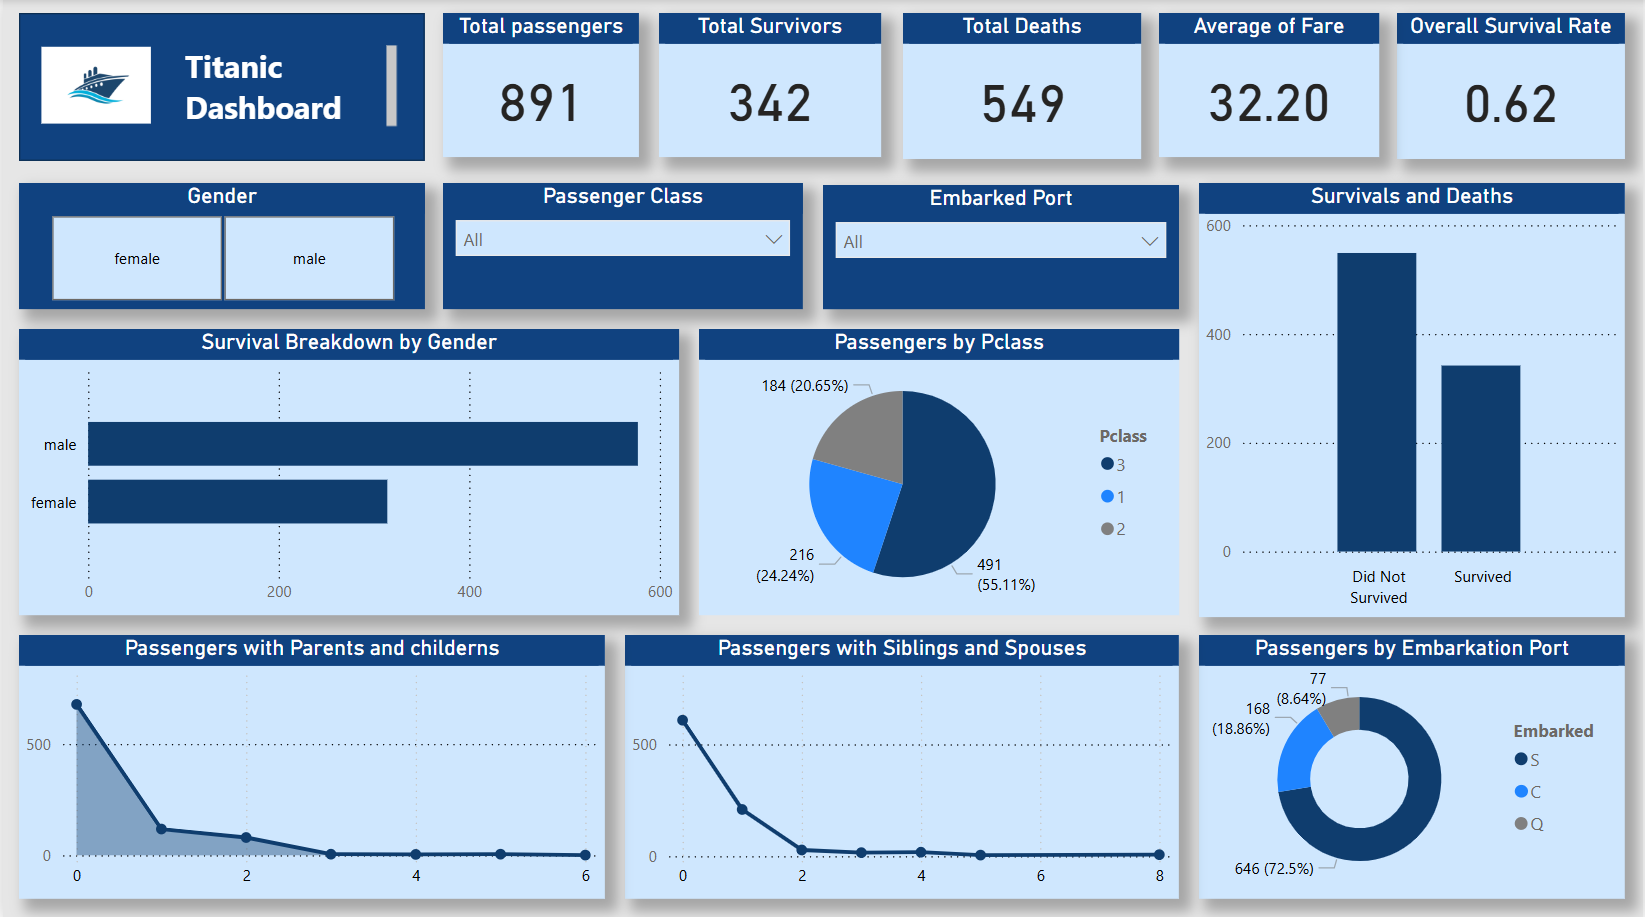

This screenshot's page, from the dashboard's own definition file:
{"tool":"powerbi","page":{"name":"Page 1","canvas":[1280,720],"ordinal":0},"visuals":[{"type":"card","title":"Total passengers","fields":{"Values":["CountNonNull(Cleaned_Titanic.PassengerId)"]},"box":[343.6,10.9,153.1,112.5],"z":0},{"type":"card","title":"Total Survivors","fields":{"Values":["Cleaned_Titanic.Total Survivers"]},"box":[512.3,10.9,173.4,112.5],"z":1000},{"type":"card","title":"Total Deaths","fields":{"Values":["Cleaned_Titanic.Total Deaths"]},"box":[702.8,10.9,185.9,114],"z":2000},{"type":"card","title":"Overall Survival Rate","fields":{"Values":["Cleaned_Titanic.Survival rate"]},"box":[1088.6,10.9,178,114],"z":3000},{"type":"card","title":"Average of Fare","fields":{"Values":["Avg(Cleaned_Titanic.Fare)"]},"box":[902.7,10.9,171.8,112.5],"z":4000},{"type":"slicer","title":"Gender","fields":{"Values":["Cleaned_Titanic.Sex"]},"box":[12.5,143.7,317,98.4],"z":6000},{"type":"slicer","title":"Passenger Class","fields":{"Values":["Cleaned_Titanic.Pclass"]},"box":[343.6,143.7,281.1,98.4],"z":7000},{"type":"slicer","title":"Embarked Port","fields":{"Values":["Cleaned_Titanic.Embarked"]},"box":[640.3,145.2,278,96.8],"z":8000},{"type":"columnChart","title":"Survivals and Deaths","fields":{"Category":["Cleaned_Titanic.Survival Status"],"Y":["CountNonNull(Cleaned_Titanic.PassengerId)"]},"box":[934,143.7,332.7,338.9],"z":9000},{"type":"clusteredBarChart","title":"Survival Breakdown by Gender","fields":{"Category":["Cleaned_Titanic.Sex"],"Y":["CountNonNull(Cleaned_Titanic.Survival Status)"]},"box":[12.5,257.7,515.4,223.3],"z":10000},{"type":"pieChart","title":"Passengers by Pclass","fields":{"Category":["Cleaned_Titanic.Pclass"],"Y":["CountNonNull(Cleaned_Titanic.PassengerId)"]},"box":[543.5,257.7,374.8,223.3],"z":11000},{"type":"donutChart","title":"Passengers by Embarkation Port","fields":{"Category":["Cleaned_Titanic.Embarked"],"Y":["CountNonNull(Cleaned_Titanic.PassengerId)"]},"box":[934,496.7,332.7,206.2],"z":12000},{"type":"lineChart","title":"Passengers with Siblings and Spouses","fields":{"Category":["Cleaned_Titanic.SibSp"],"Y":["CountNonNull(Cleaned_Titanic.PassengerId)"]},"box":[485.7,496.7,432.6,206.2],"z":13000},{"type":"areaChart","title":"Passengers with Parents and childerns","fields":{"Category":["Cleaned_Titanic.Parch"],"Y":["CountNonNull(Cleaned_Titanic.PassengerId)"]},"box":[12.5,496.7,457.6,206.2],"z":14000},{"type":"shape","box":[12.5,10.9,317,115.6],"z":14001},{"type":"image","box":[25,20.3,95.3,93.7],"z":14002},{"type":"textbox","box":[137.4,31.2,174.9,73.4],"z":14003}]}

Visuals, with their boxes in screenshot pixels (x1, y1, x2, y2), scaled from the page's 1280x720 canvas onto the 1645x917 screenshot:
"Total passengers" card: bbox=[442, 14, 638, 157]
"Total Survivors" card: bbox=[658, 14, 881, 157]
"Total Deaths" card: bbox=[903, 14, 1142, 159]
"Overall Survival Rate" card: bbox=[1399, 14, 1628, 159]
"Average of Fare" card: bbox=[1160, 14, 1381, 157]
"Gender" slicer: bbox=[16, 183, 423, 308]
"Passenger Class" slicer: bbox=[442, 183, 803, 308]
"Embarked Port" slicer: bbox=[823, 185, 1180, 308]
"Survivals and Deaths" columnChart: bbox=[1200, 183, 1628, 615]
"Survival Breakdown by Gender" clusteredBarChart: bbox=[16, 328, 678, 613]
"Passengers by Pclass" pieChart: bbox=[698, 328, 1180, 613]
"Passengers by Embarkation Port" donutChart: bbox=[1200, 633, 1628, 895]
"Passengers with Siblings and Spouses" lineChart: bbox=[624, 633, 1180, 895]
"Passengers with Parents and childerns" areaChart: bbox=[16, 633, 604, 895]
shape: bbox=[16, 14, 423, 161]
image: bbox=[32, 26, 155, 145]
textbox: bbox=[177, 40, 401, 133]
